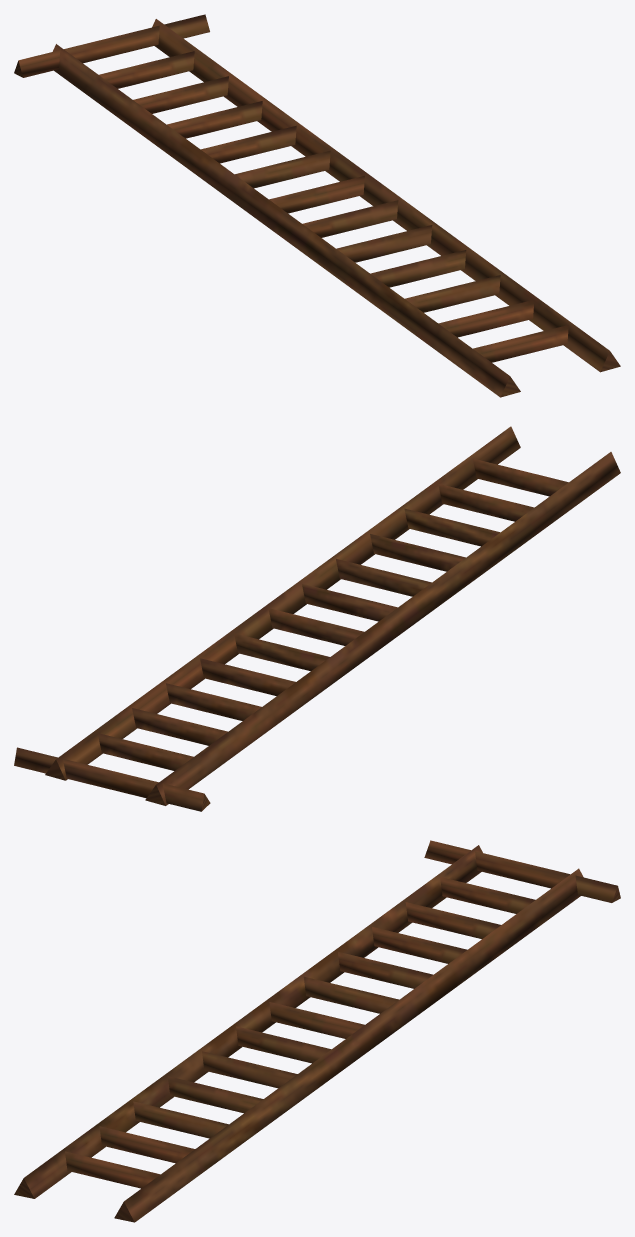
File: INST_SWORDLIGHT_LADDERJAIL.fbx
3 views of the same model, one above another, from view 1: azimuth 30°, elevation 25°; view 2: azimuth 150°, elevation 25°; view 3: azimuth 330°, elevation 25° (orthographic).
Parts seen in each view (by area): view 1: INST_SWORDLIGHT_LADDERJAIL; view 2: INST_SWORDLIGHT_LADDERJAIL; view 3: INST_SWORDLIGHT_LADDERJAIL.
Boxes of the visible parts, x1=… form: INST_SWORDLIGHT_LADDERJAIL: x1=14, y1=14, x2=620, y2=397; INST_SWORDLIGHT_LADDERJAIL: x1=14, y1=426, x2=620, y2=811; INST_SWORDLIGHT_LADDERJAIL: x1=14, y1=840, x2=620, y2=1222.
Bounding box in the file's own units: 9556 × 976 × 40032.
Materials: 1 (1 with a texture image).
